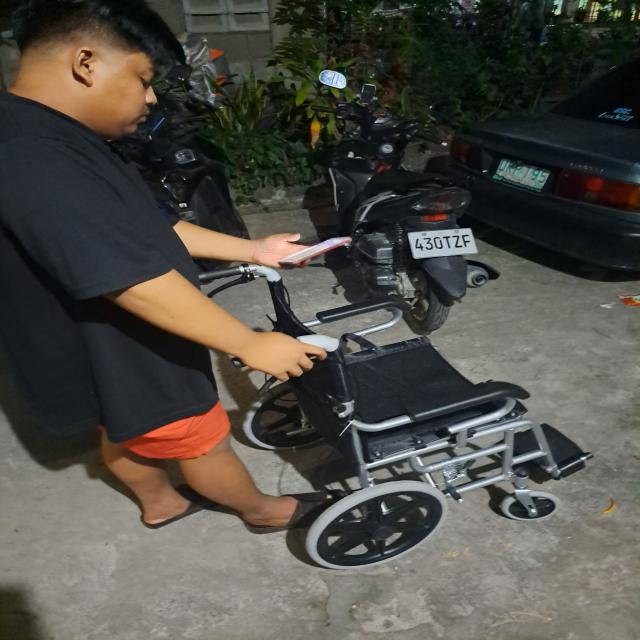wheelchairs: (200, 272, 598, 576)
